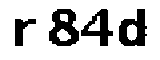4: (81, 7, 113, 49)
8: (48, 7, 79, 49)
d: (116, 5, 150, 50)
r: (9, 14, 41, 49)
